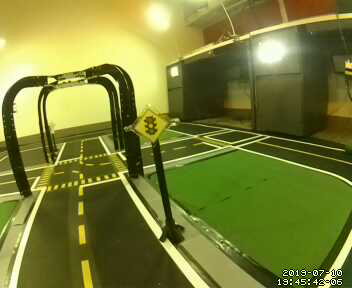Traffic light sign: (134, 107, 168, 141)
